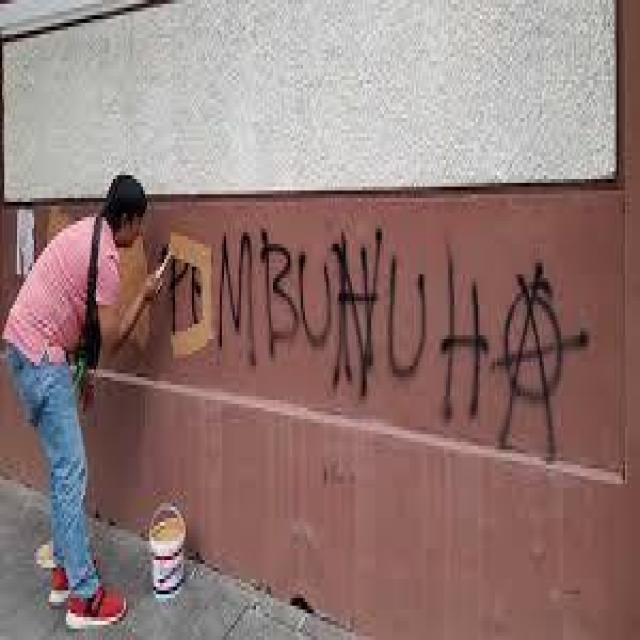nonspitting: (160, 228, 590, 460)
